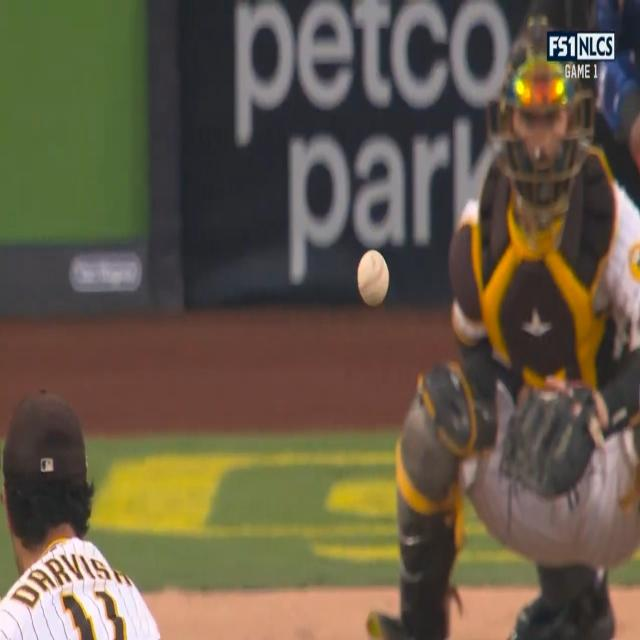baseball: (357, 248, 390, 306)
